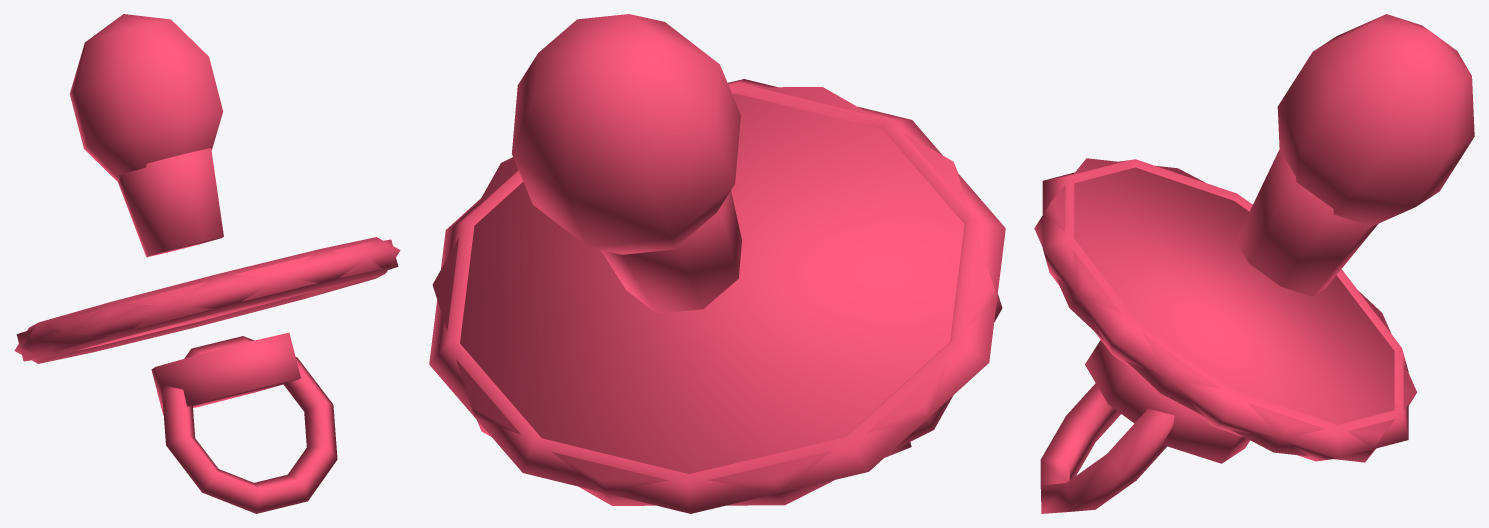
File: chupete.glb
The picture shows the model from 3 angles, left to right: view 1: azimuth 30°, elevation 25°; view 2: azimuth 150°, elevation 25°; view 3: azimuth 270°, elevation 25°; orthographic projection. The views are drawn at different scales.
Parts seen in each view (by area): view 1: Chupete; view 2: Chupete; view 3: Chupete.
Part boxes in pixels (<box>): Chupete: <box>14,14,400,513</box>; Chupete: <box>429,14,1005,513</box>; Chupete: <box>1034,14,1474,513</box>.
Size of the model in its own units: 0.448 by 0.4534 by 0.3806.
